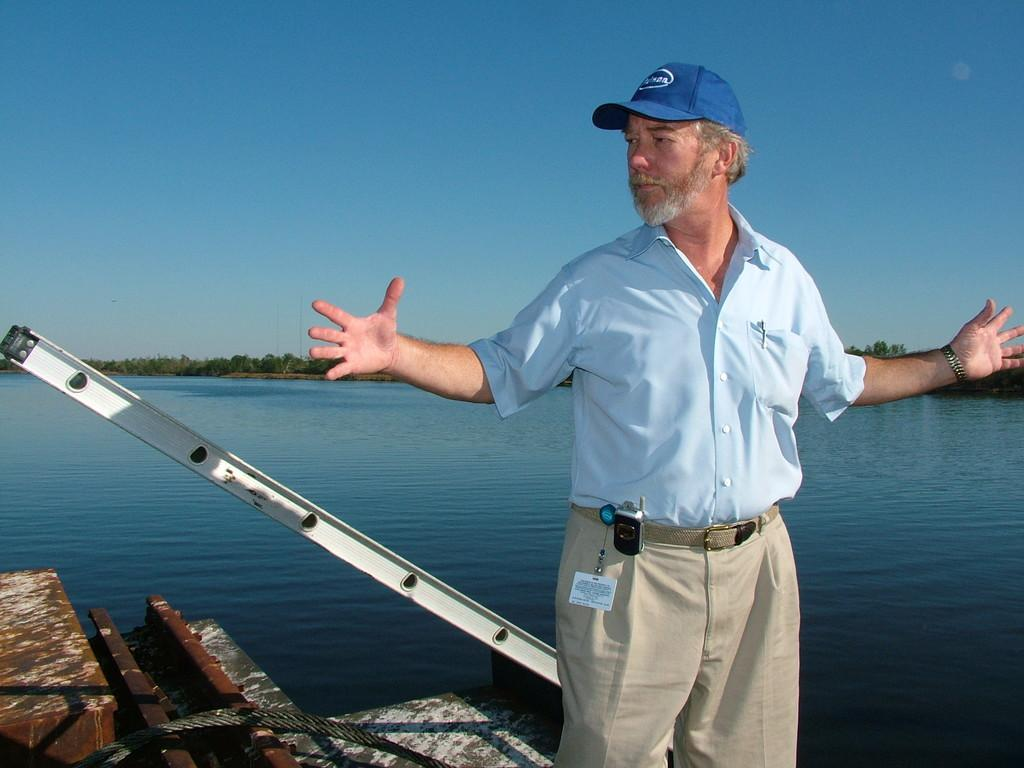Hat: (594, 64, 748, 142)
